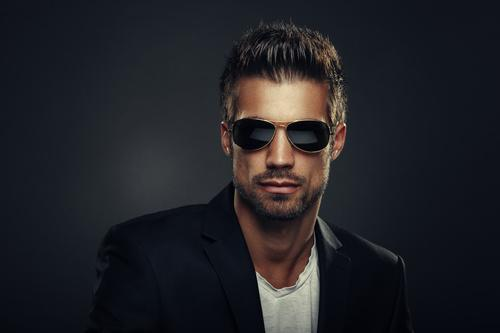sunglasses: (224, 115, 335, 159)
